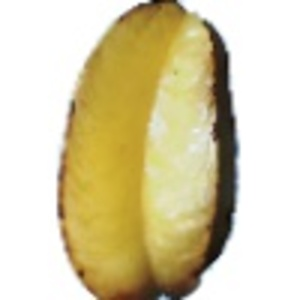carambola: (56, 1, 241, 300)
